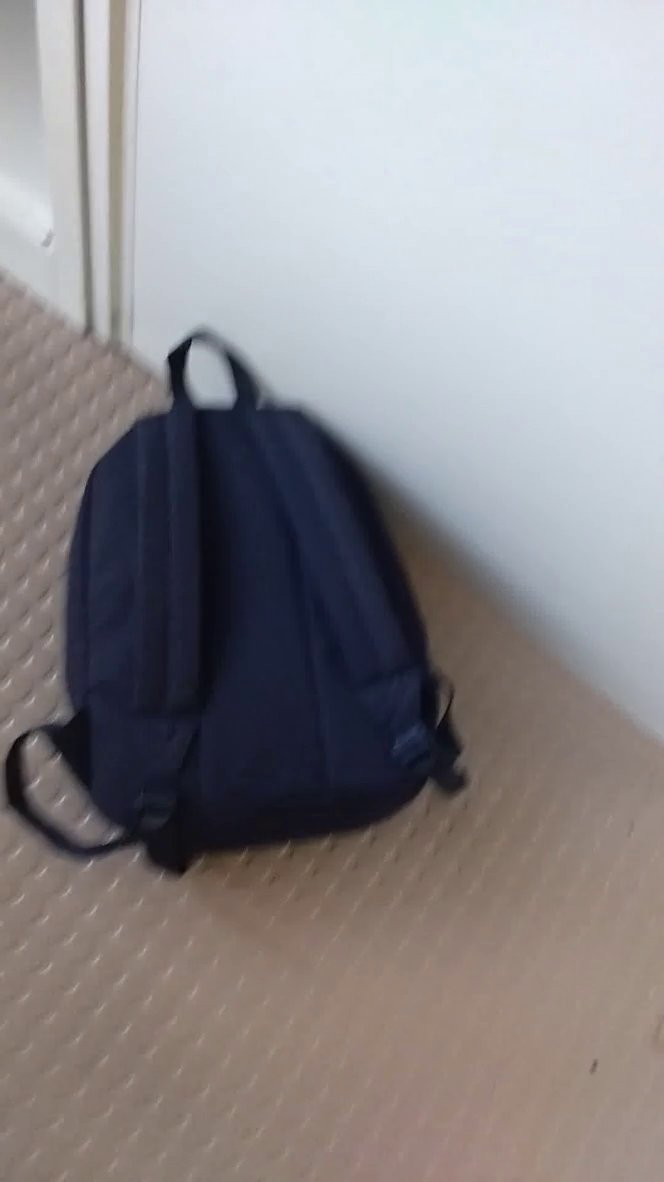bag: (2, 319, 487, 897)
